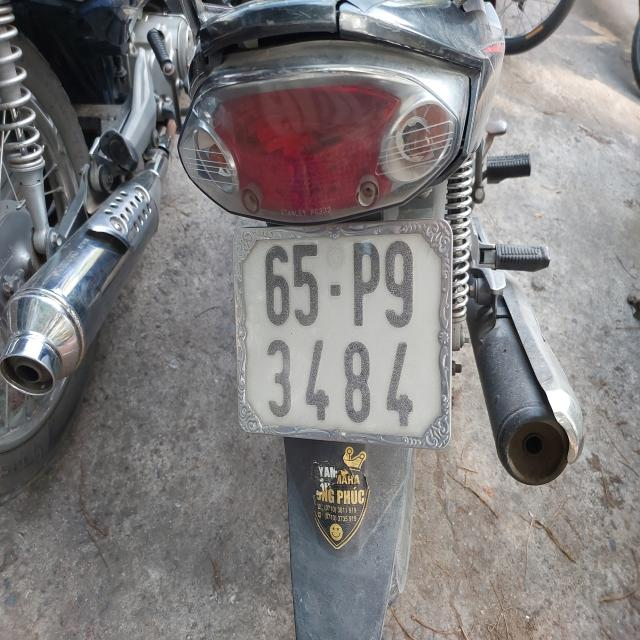3: (266, 339, 294, 421)
4: (386, 341, 414, 426), (307, 339, 330, 424)
5: (292, 242, 320, 329)
6: (266, 246, 290, 327)
8: (343, 343, 372, 423)
9: (386, 242, 414, 332)
P: (354, 240, 379, 328)
